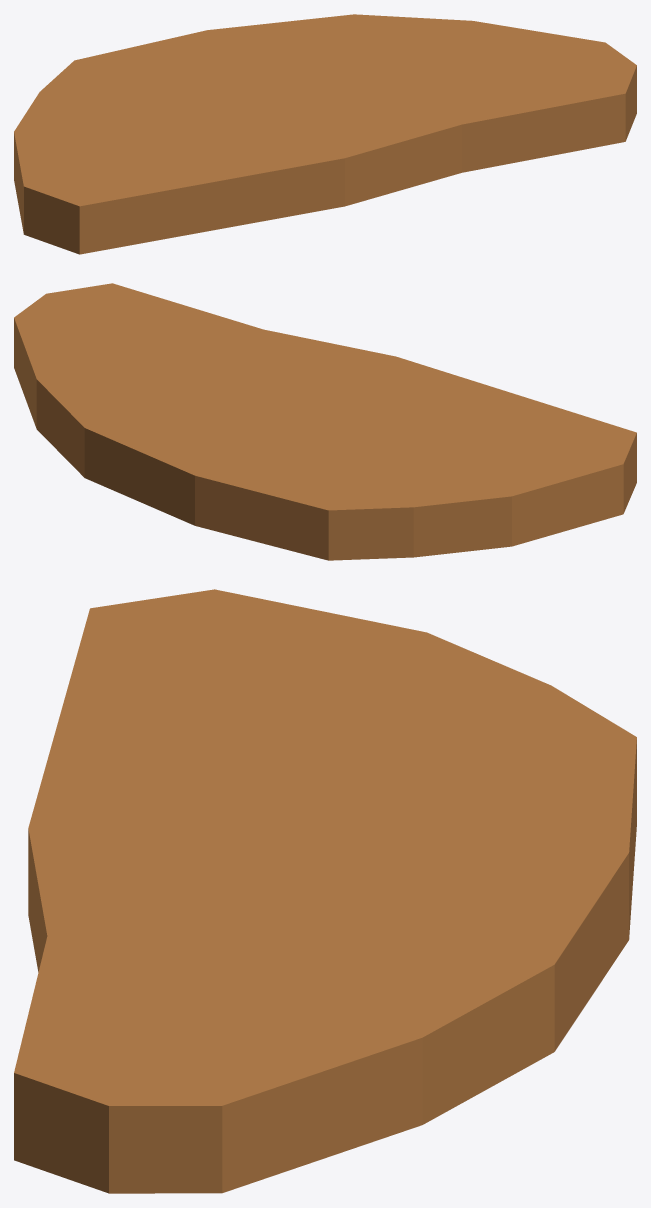
Rendered from tonkatu.fbx.
The picture shows the model from 3 angles, top to bottom: view 1: azimuth 30°, elevation 25°; view 2: azimuth 150°, elevation 25°; view 3: azimuth 270°, elevation 25°; orthographic projection. The views are drawn at different scales.
Visible parts, largest first — view 1: 円; view 2: 円; view 3: 円.
Part boxes in pixels (bbox=[...]): 円: bbox=[14, 14, 636, 254]; 円: bbox=[14, 283, 636, 560]; 円: bbox=[14, 589, 636, 1193].
Bounding box in the file's own units: 285 × 22.49 × 145.
Materials: 1 (1 with a texture image).
